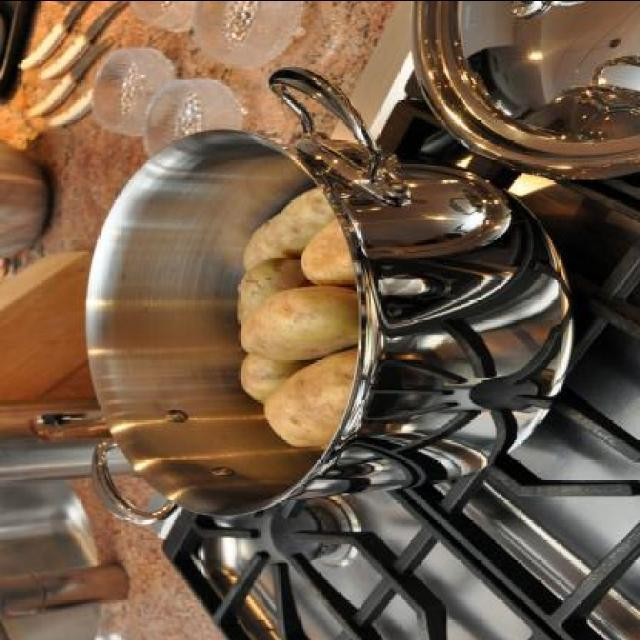Potato: (234, 184, 366, 448), (238, 282, 358, 364)
